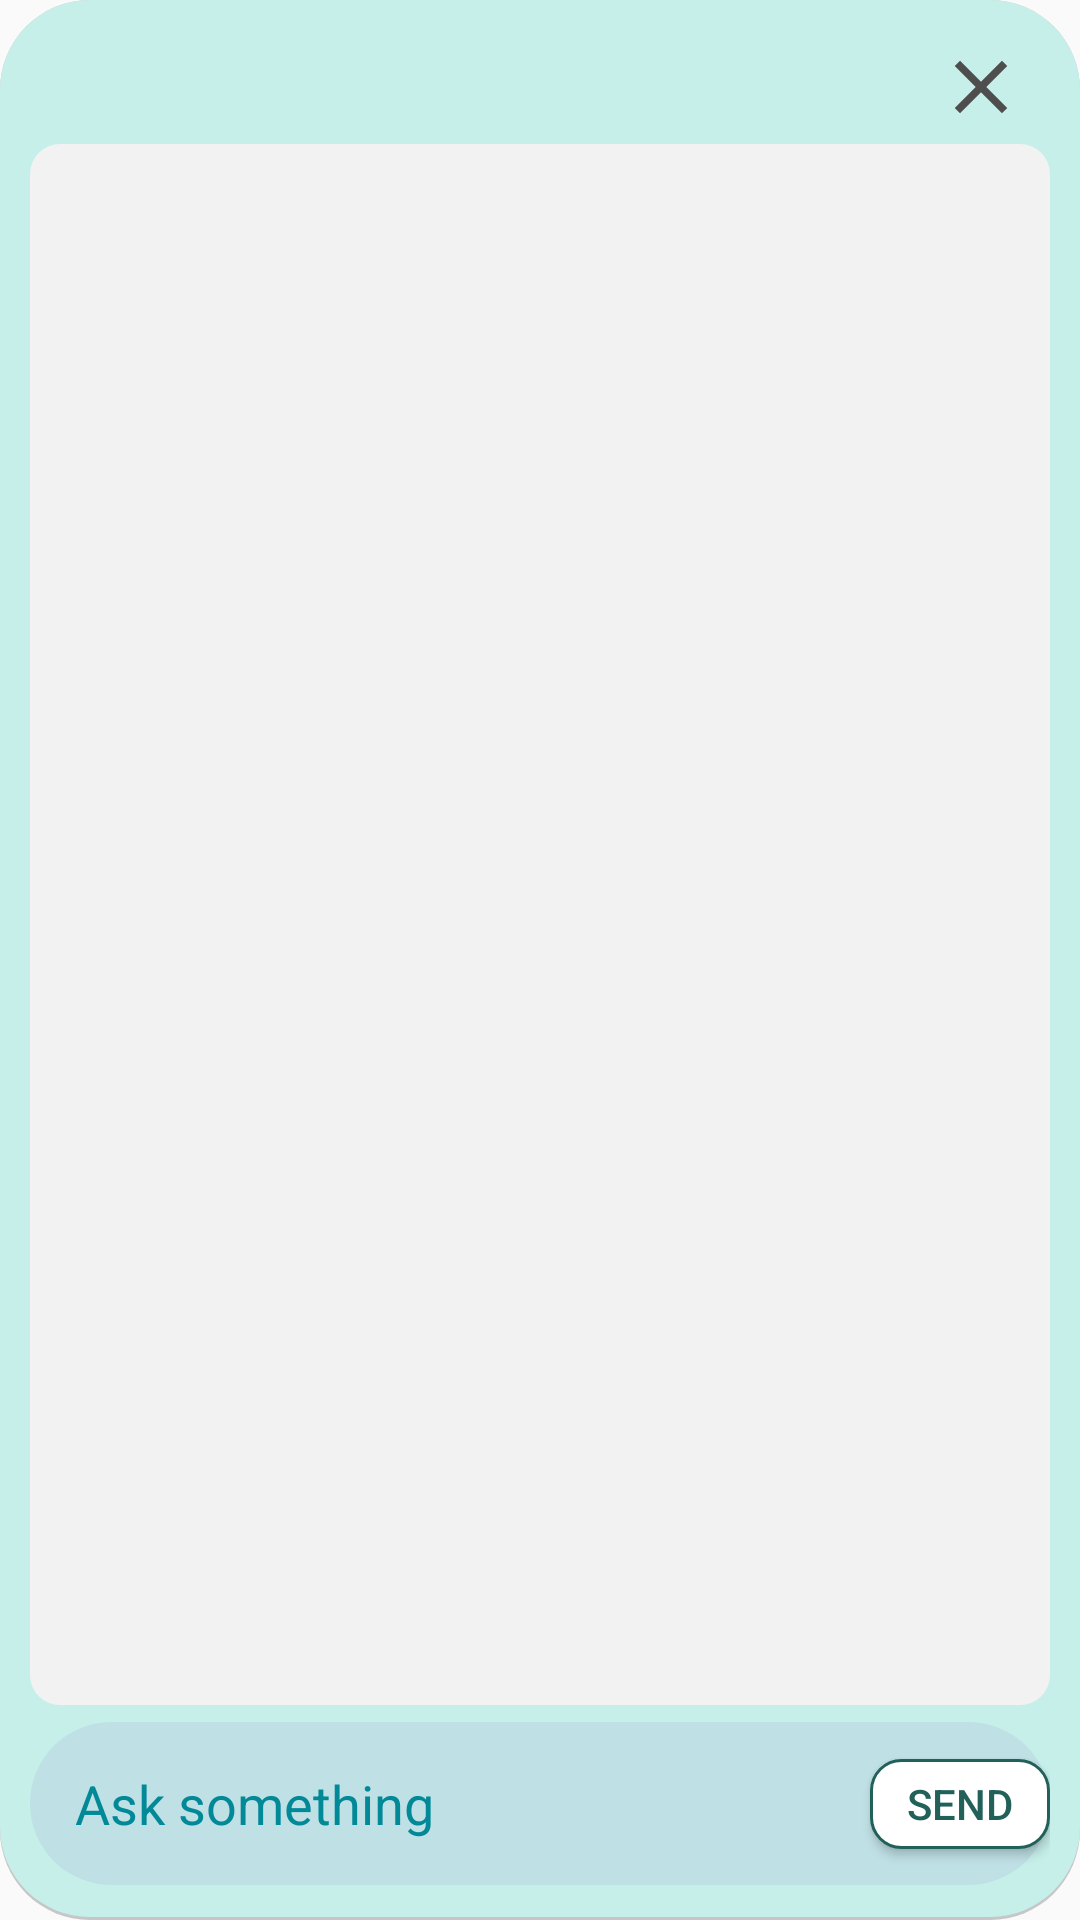

Named icons in this screenshot (1080×1920) and their centers, point (x, y):
close: point (981, 87)
